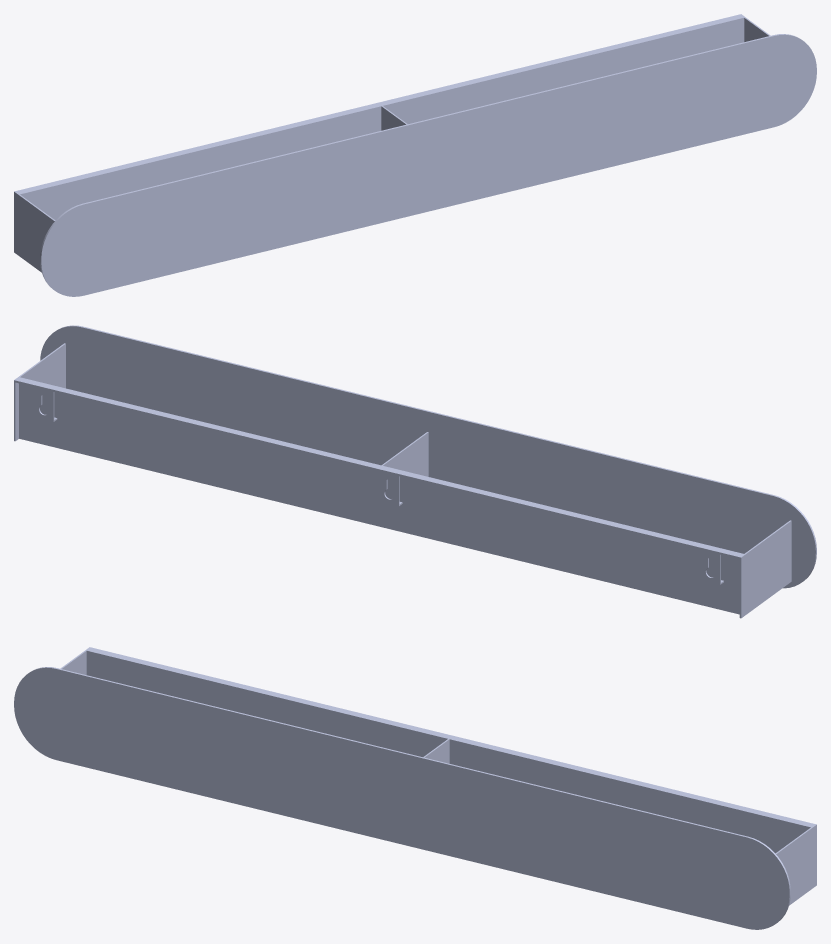
The model's file is round-mono.185e3c304e.glb.
3 renders of one model, top to bottom at view 1: azimuth 30°, elevation 25°; view 2: azimuth 150°, elevation 25°; view 3: azimuth 330°, elevation 25°, orthographic.
Parts seen in each view (by area): view 1: NAUO1; view 2: NAUO1; view 3: NAUO1.
Part boxes in pixels (x1=…): NAUO1: x1=14, y1=14, x2=816, y2=296; NAUO1: x1=14, y1=325, x2=816, y2=618; NAUO1: x1=14, y1=647, x2=816, y2=929.
Size of the model in its own units: 0.8 by 0.0899 by 0.092.
